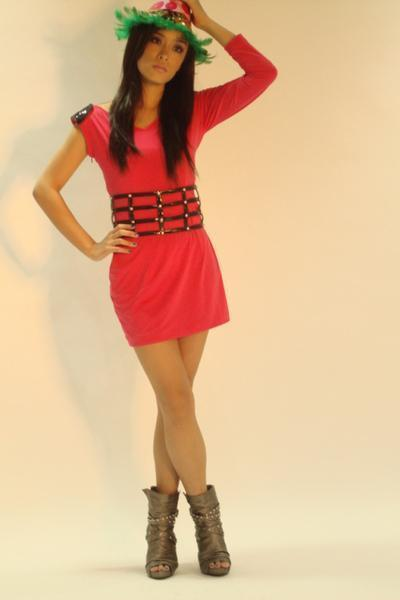dress: (71, 36, 275, 346)
hat: (116, 0, 223, 75)
shoe: (143, 485, 230, 579)
